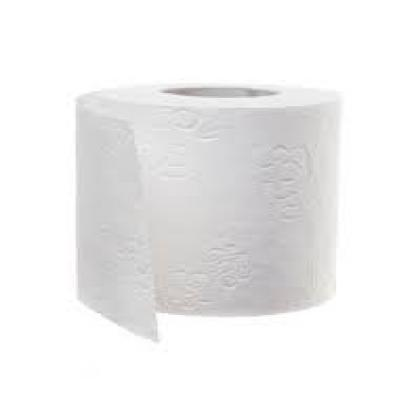tissue: (62, 75, 347, 349)
